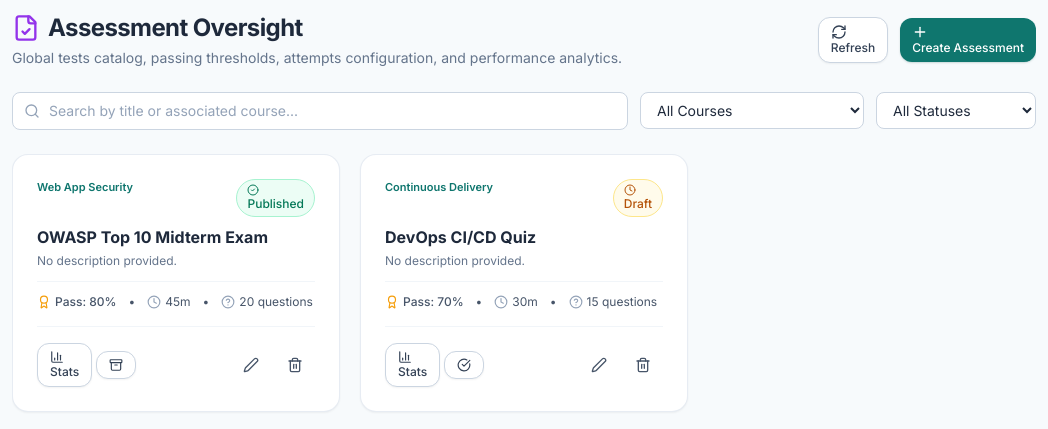
it: AdminAssessmentsPage › filters assessments by search input
Expected: the heading "OWASP Top 10 Midterm Exam" is shown, 37,227 -> 268,247
Type "DevOps" into the field named "Search assessments" at coordinates (320, 111), box 12,92 -> 628,130
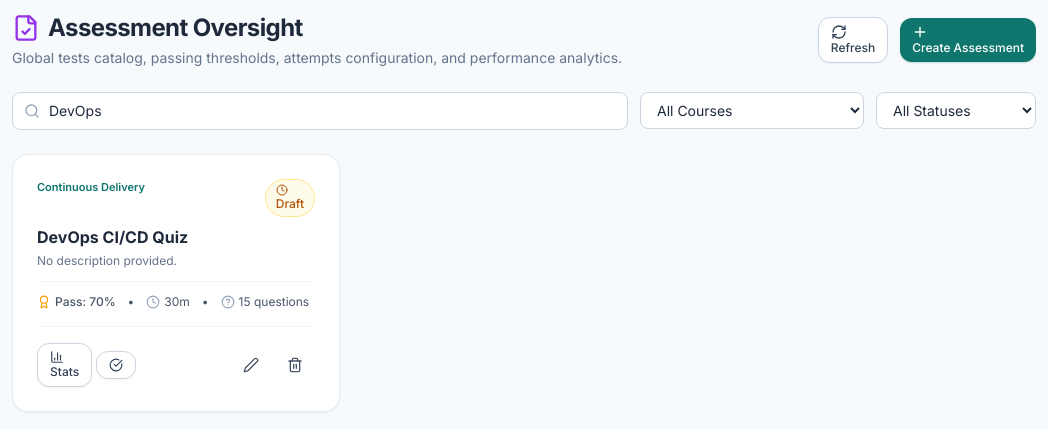
Expected: the heading "DevOps CI/CD Quiz" is shown, 37,227 -> 188,247
Result: the heading "OWASP Top 10 Midterm Exam" is gone
